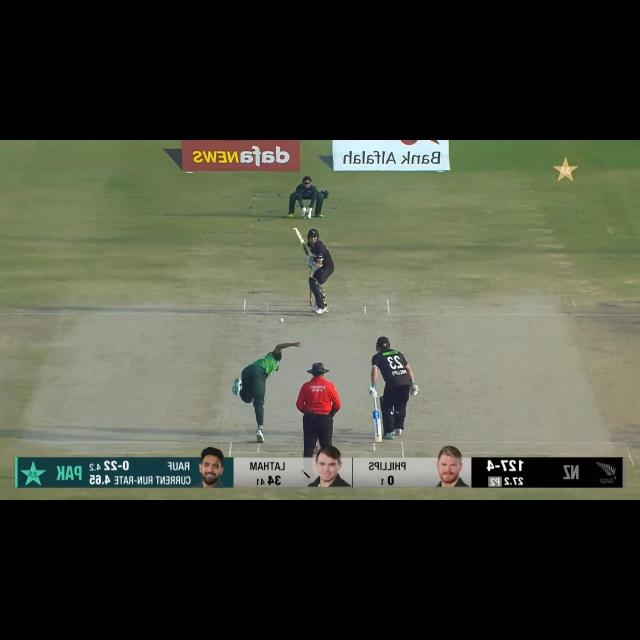bat: (291, 226, 313, 256), (373, 410, 384, 445)
toe: (292, 227, 302, 235), (374, 434, 382, 443)
